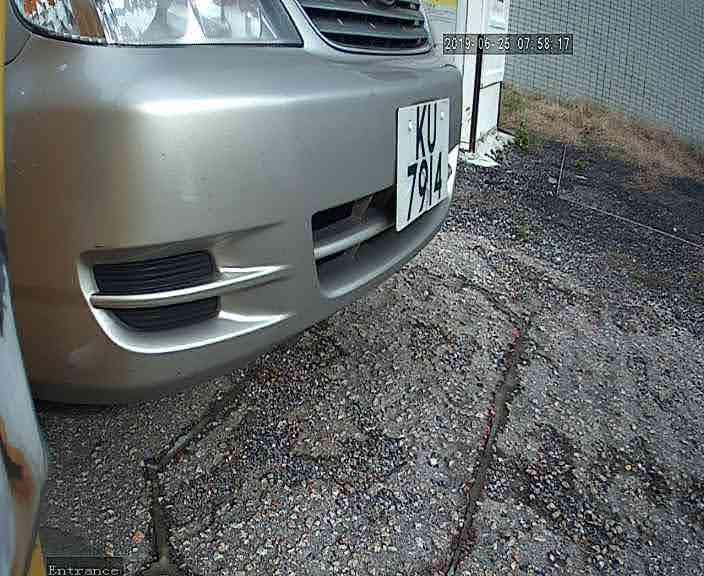privatecar: (2, 2, 496, 424)
